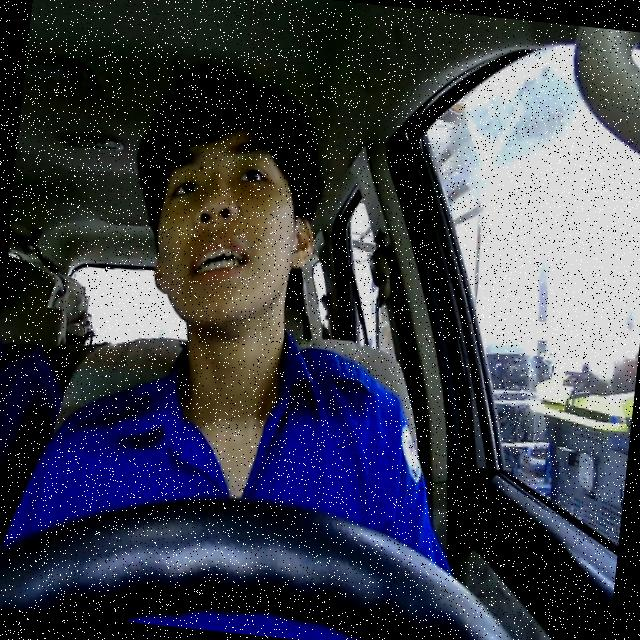yarning: (146, 120, 324, 334)
